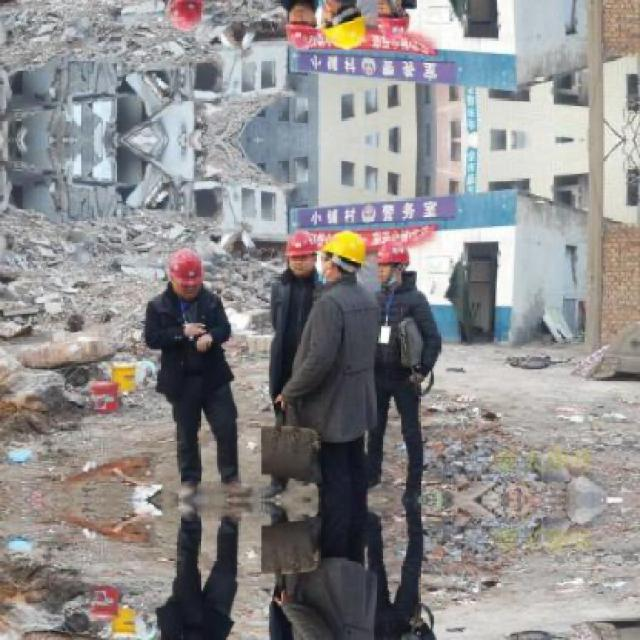helmet: (320, 228, 365, 282), (318, 0, 364, 51), (164, 248, 202, 298), (374, 237, 408, 286), (283, 230, 319, 276), (283, 2, 319, 48), (374, 0, 409, 42), (165, 0, 203, 31)
